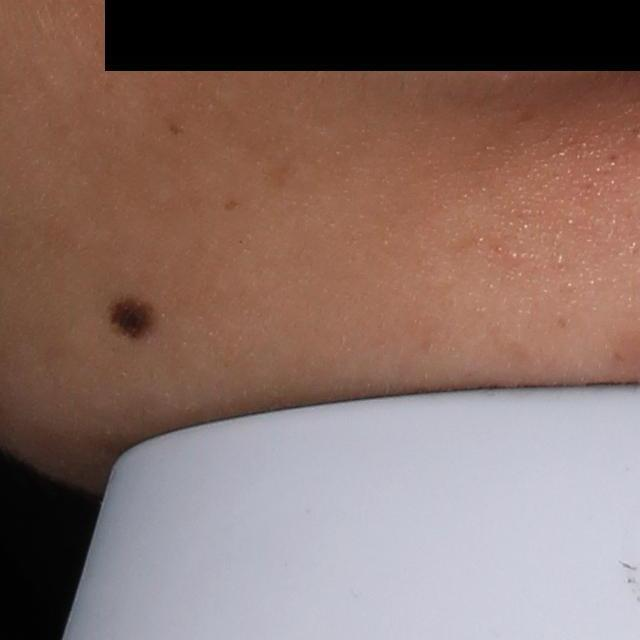nevus: (102, 292, 162, 346)
